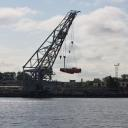submarine: (27, 95, 111, 99)
